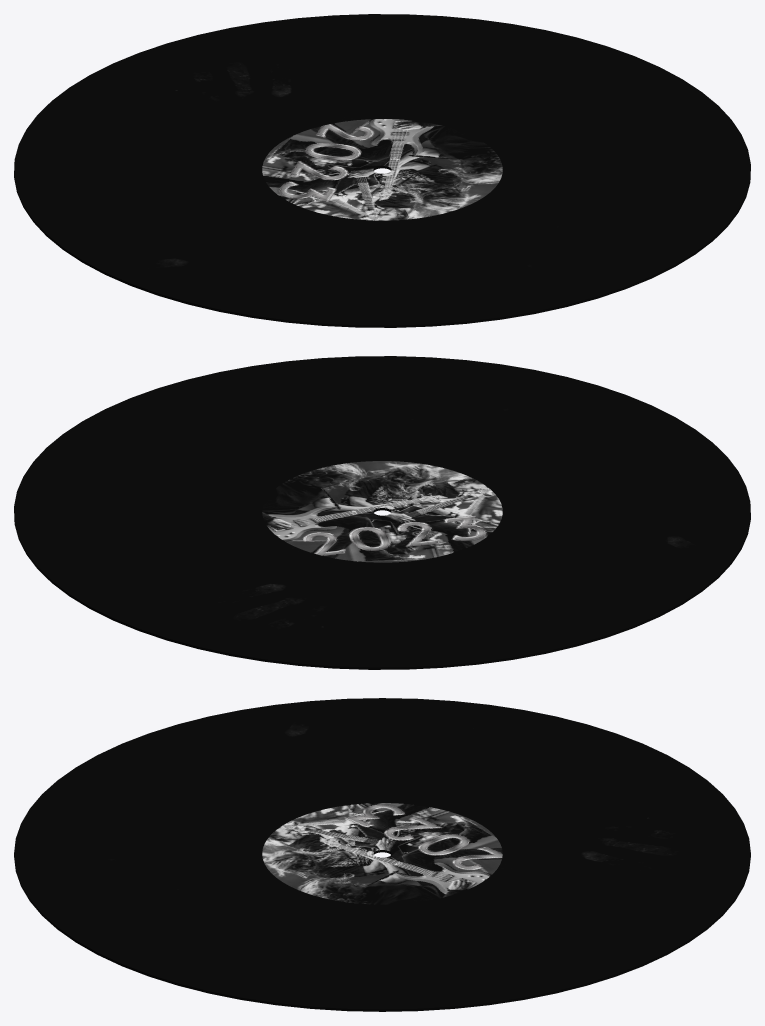
File: Vinyle.fbx
The picture shows the model from 3 angles, top to bottom: view 1: azimuth 30°, elevation 25°; view 2: azimuth 150°, elevation 25°; view 3: azimuth 270°, elevation 25°; orthographic projection.
Visible parts, largest first — view 1: VinyleMesh; view 2: VinyleMesh; view 3: VinyleMesh.
Part boxes in pixels (<box>): VinyleMesh: <box>14,14,750,327</box>; VinyleMesh: <box>14,356,750,669</box>; VinyleMesh: <box>14,698,750,1011</box>.
Size of the model in its own units: 30 by 0.105 by 30.
